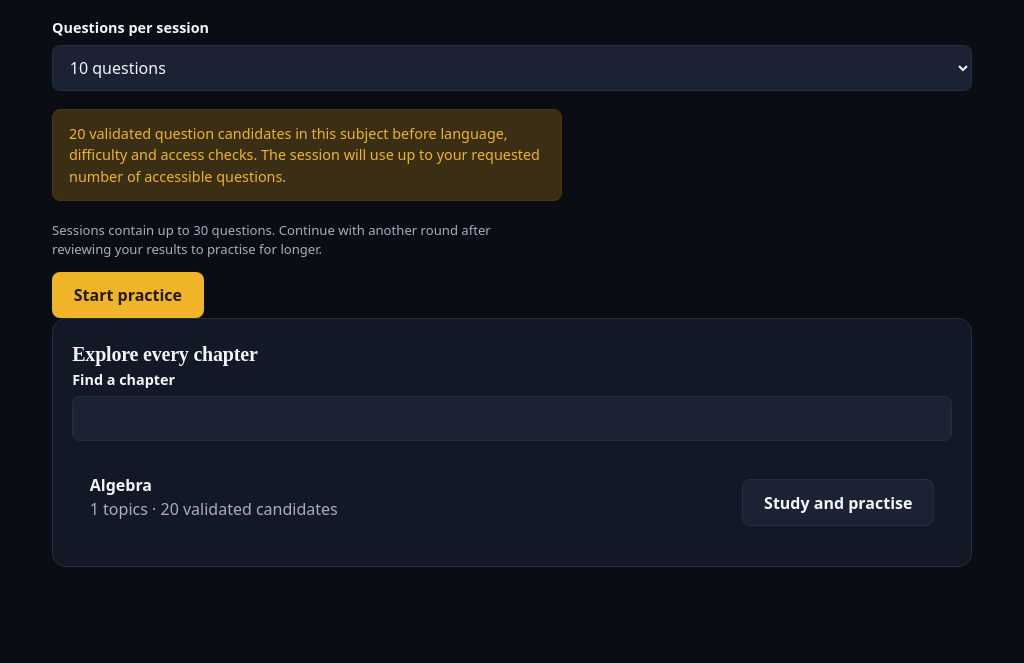
Test: explores chapters without discarding the authenticated curriculum boundary
(page scrolled)
Check: the button "Study and practise" is shown, box [742, 479, 934, 526]
Type "missing" into the search field labelled "Find a chapter" at [512, 418], box [72, 396, 952, 441]
(page scrolled)
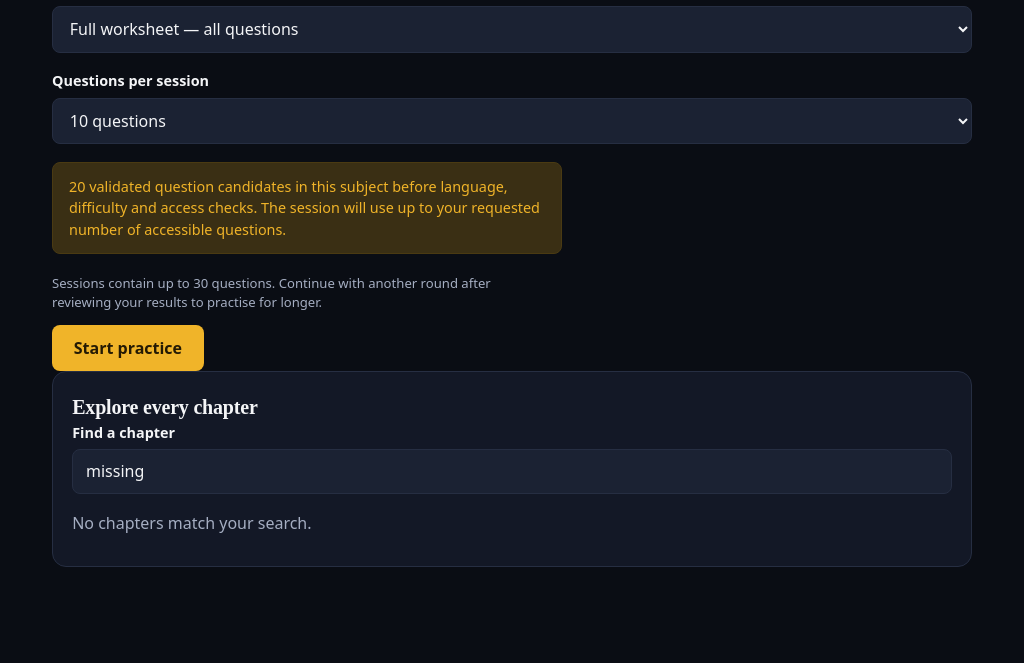
Check: the text "No chapters match your search." is shown, box [72, 512, 312, 534]
Replace the text in the search field labelled "Find a chapter" with "algebra" at [512, 471], box [72, 449, 952, 494]
(page scrolled)
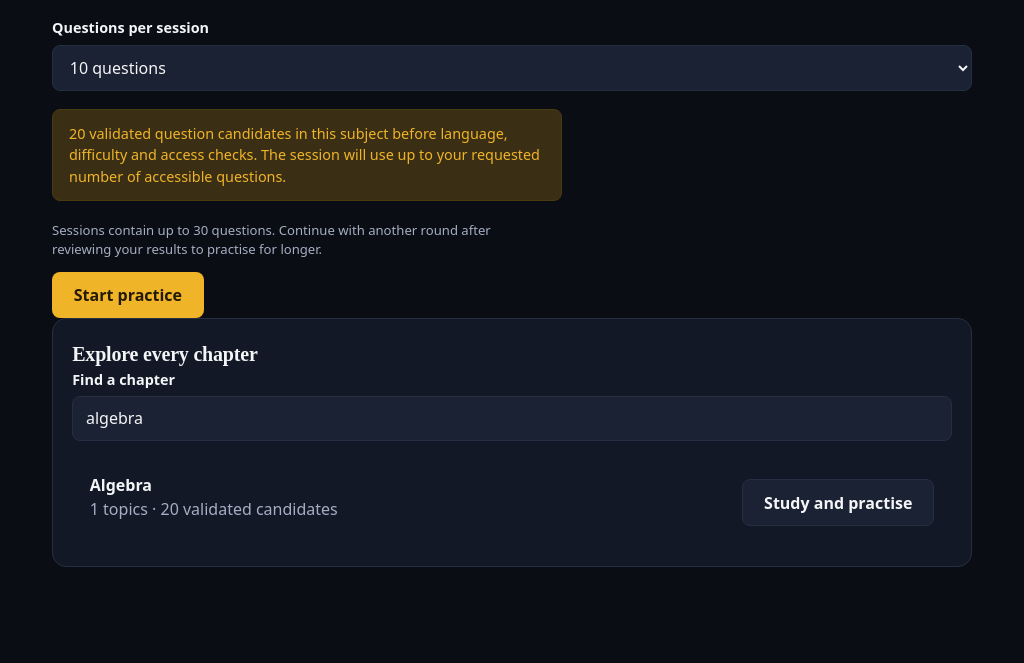
Click the button "Study and practise" at [838, 503], box [742, 479, 934, 526]
(page scrolled)
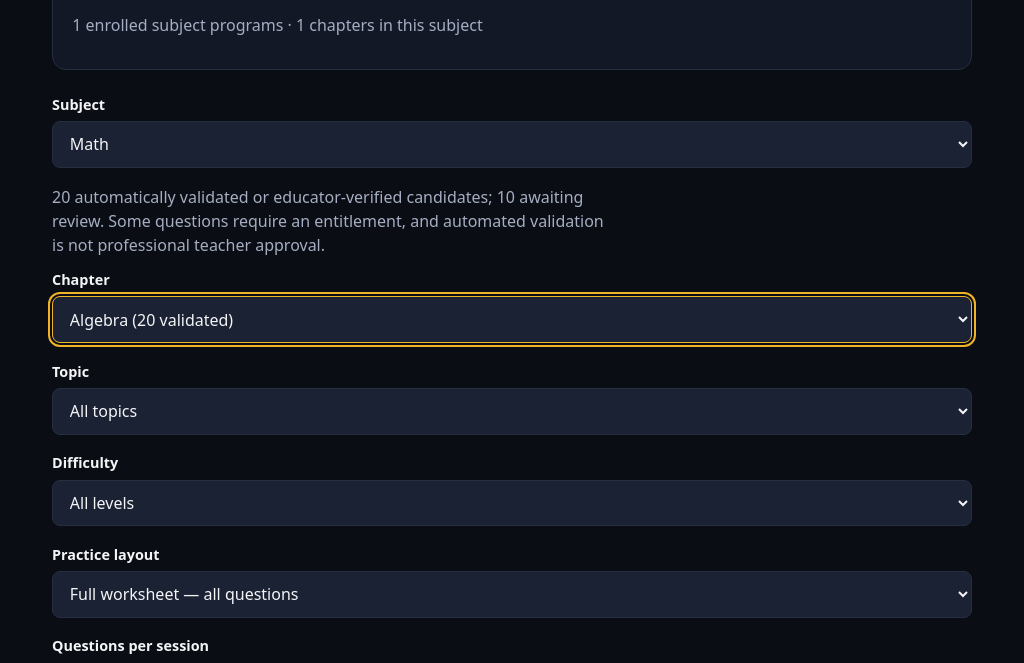
Check: the dropdown labelled "Chapter" shows "Algebra (20 validated)", box [52, 296, 972, 343]
